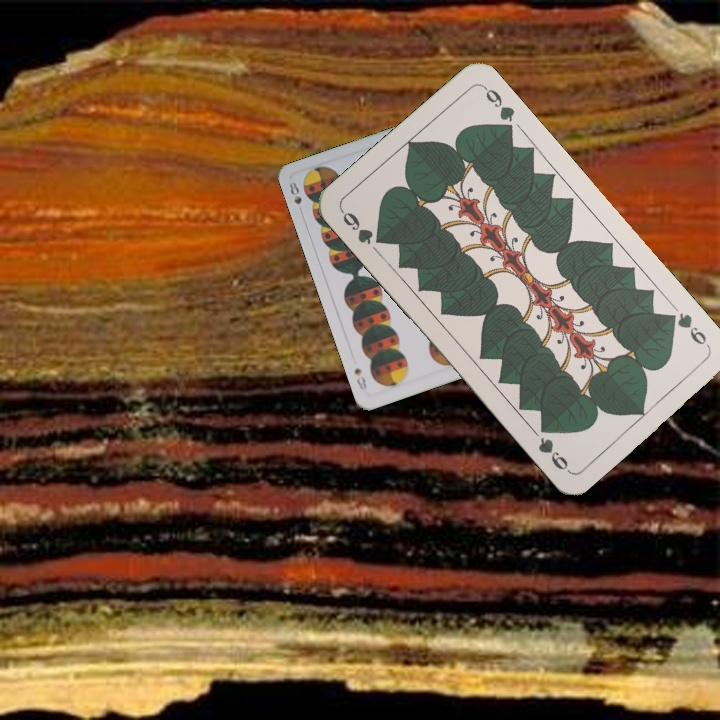G9: (662, 309, 713, 351), (337, 206, 388, 247)
S8: (285, 178, 306, 217)
